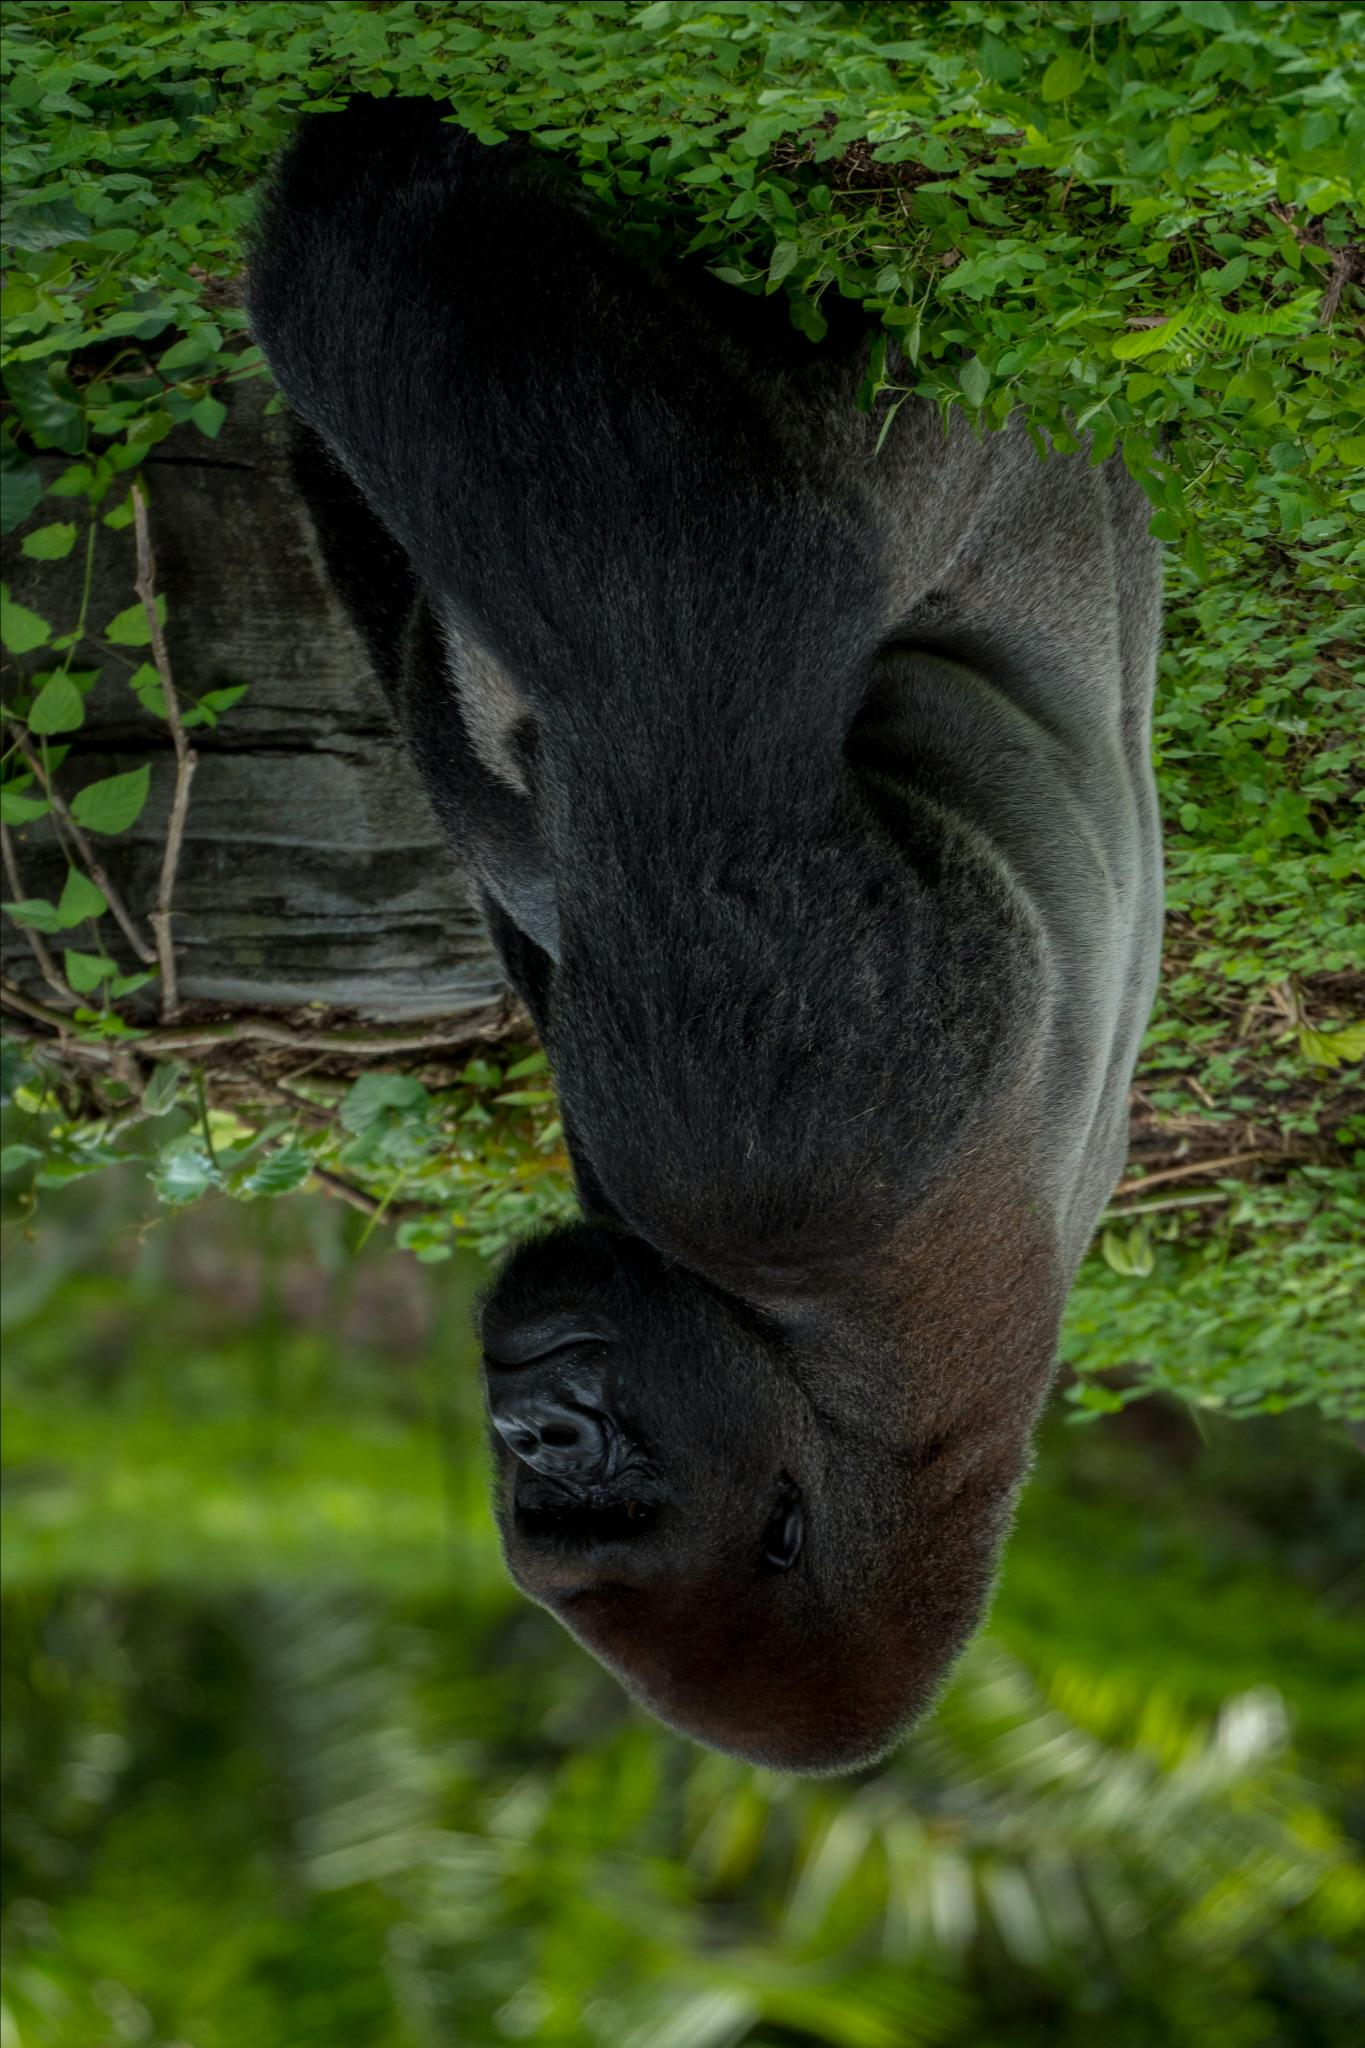gorille_Autres: (114, 132, 1164, 1810)
